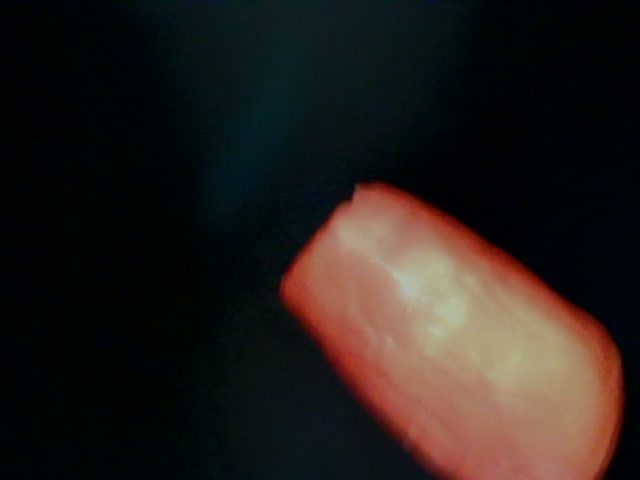CYLJ: (282, 176, 627, 474)
